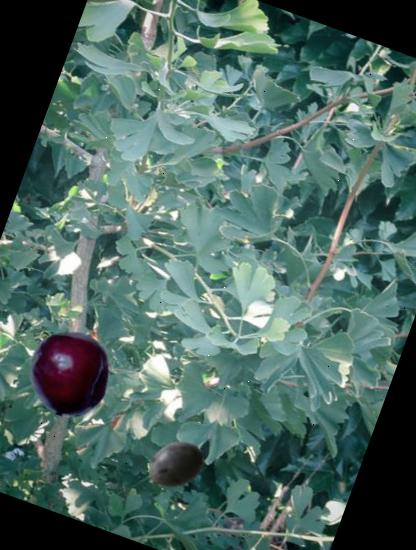Plum: (13, 318, 124, 430), (138, 428, 211, 501)
